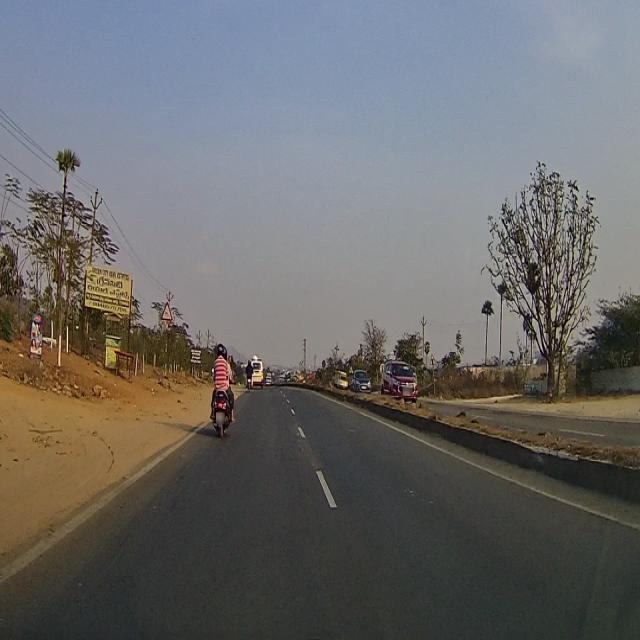left-hand-curve: (159, 301, 176, 325)
